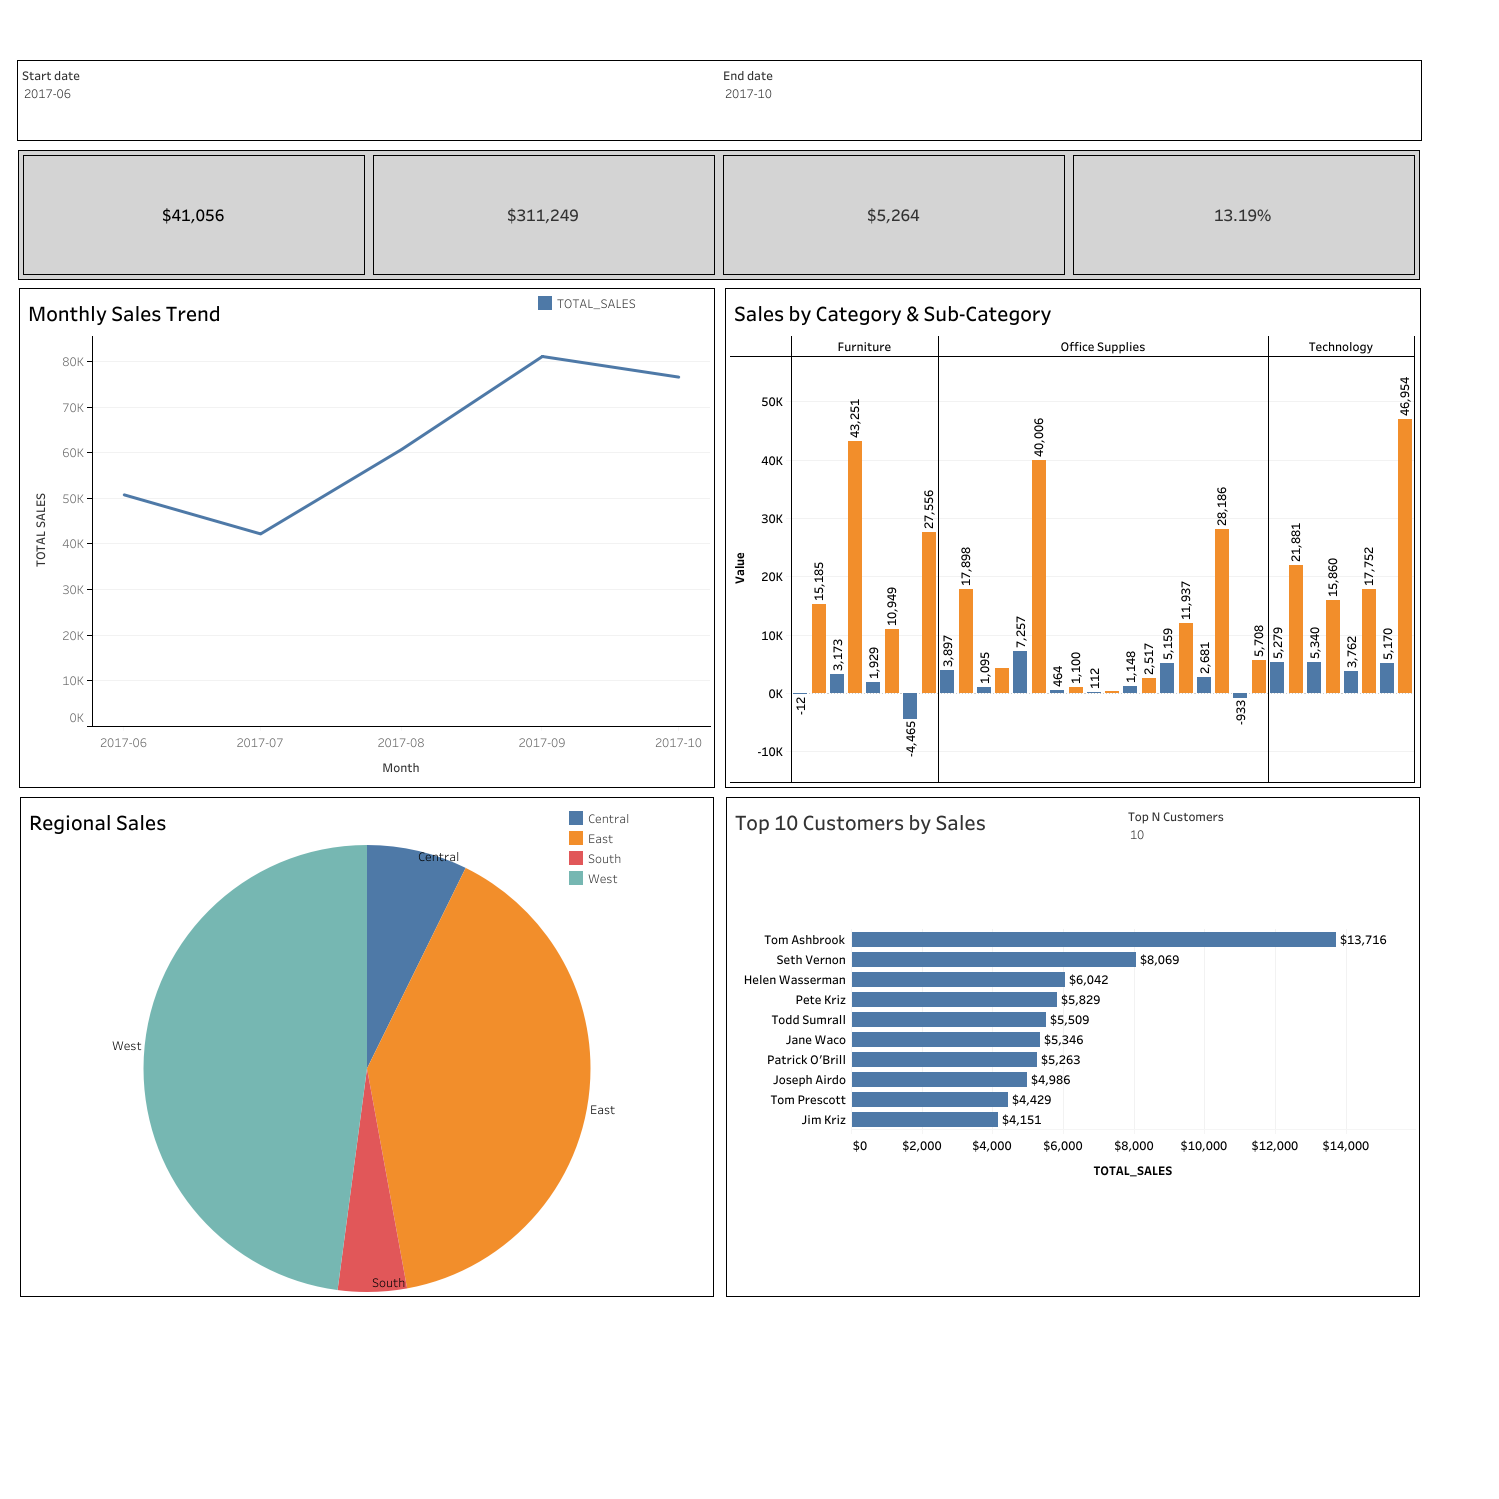

This screenshot's page, from the dashboard's own definition file:
{"tool":"tableau","page":{"name":"Sales Dashboard","canvas":[1500,1500],"ordinal":0},"visuals":[{"type":"parameter","param":"[Parameters].[Parameter 1]","box":[18,61,701.5,79]},{"type":"parameter","param":"[Parameters].[Start date (copy)_1235112258065793024]","box":[719.5,61,701.5,79]},{"type":"worksheet","title":"Total Profit","mark":"Text","box":[19,151,350,128]},{"type":"worksheet","title":"Total Sales","mark":"Text","box":[369,151,350,128]},{"type":"worksheet","title":"Total Quantity","mark":"Text","box":[719,151,350,128]},{"type":"worksheet","title":"Profit Margin %","mark":"Text","box":[1069,151,350,128]},{"type":"worksheet","title":"Monthly spend","mark":"Line","rows":["TOTAL_SALES"],"cols":["MONTH"],"box":[20,289,694,498]},{"type":"worksheet","title":"Sales","mark":"Automatic","cols":["CATEGORY","SUB_CATEGORY"],"box":[726,289,694,498]},{"type":"legend","title":"Monthly spend","param":"[federated.0sbh1bt06n9smg1h1kaly1oue1d2].[:Measure Names]","box":[535,293,140,26]},{"type":"worksheet","title":"Region","mark":"Pie","box":[21,798,692,498]},{"type":"worksheet","title":"Top Customers","mark":"Automatic","rows":["CUSTOMER_NAME"],"cols":["TOTAL_SALES"],"box":[727,798,692,498]},{"type":"parameter","param":"[Parameters].[Parameter 2]","box":[1128,806,273,90]},{"type":"legend","title":"Region","param":"[federated.04hd5hr179tltp12tfzjd0mx03dv].[none:REGION:nk]","box":[566,808,140,93]}]}

Visuals, with their boxes in screenshot pixels (x1, y1, x2, y2), scaled from the page's 1500x1500 canvas onto the 1499x1499 screenshot:
parameter: x1=18, y1=61, x2=719, y2=140
parameter: x1=719, y1=61, x2=1420, y2=140
"Total Profit" worksheet (Text marks): x1=19, y1=151, x2=369, y2=279
"Total Sales" worksheet (Text marks): x1=369, y1=151, x2=719, y2=279
"Total Quantity" worksheet (Text marks): x1=719, y1=151, x2=1068, y2=279
"Profit Margin %" worksheet (Text marks): x1=1068, y1=151, x2=1418, y2=279
"Monthly spend" worksheet (Line marks): x1=20, y1=289, x2=714, y2=786
"Sales" worksheet: x1=726, y1=289, x2=1419, y2=786
"Monthly spend" legend: x1=535, y1=293, x2=675, y2=319
"Region" worksheet (Pie marks): x1=21, y1=797, x2=713, y2=1295
"Top Customers" worksheet: x1=727, y1=797, x2=1418, y2=1295
parameter: x1=1127, y1=805, x2=1400, y2=895
"Region" legend: x1=566, y1=807, x2=706, y2=900
